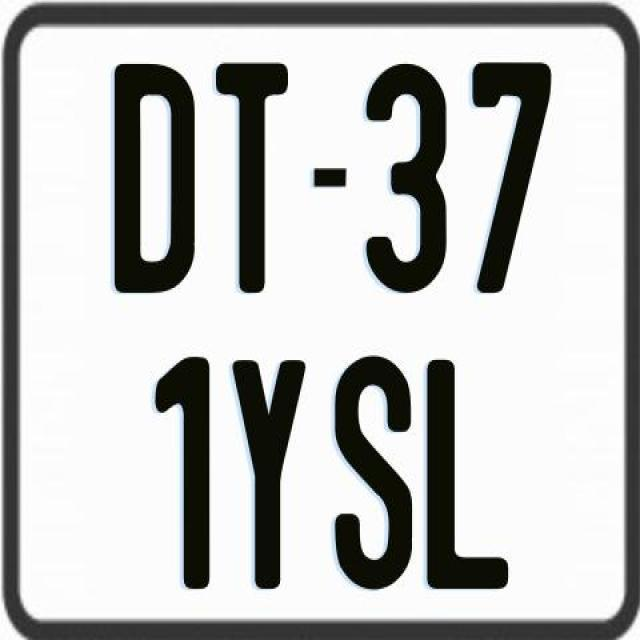1: (150, 354, 210, 590)
3: (366, 59, 454, 296)
7: (472, 58, 552, 290)
D: (110, 64, 198, 298)
L: (426, 358, 514, 594)
S: (334, 352, 416, 590)
T: (214, 59, 286, 294)
Y: (230, 356, 306, 594)
